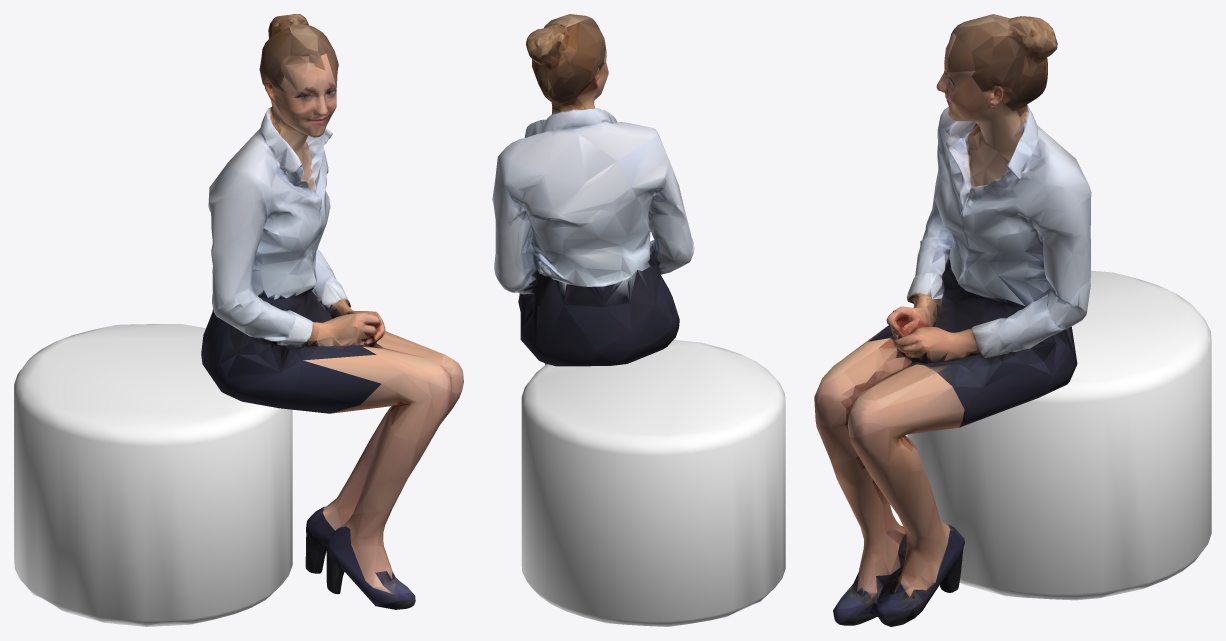
File: ren3.gltf
The picture shows the model from 3 angles, left to right: view 1: azimuth 30°, elevation 25°; view 2: azimuth 150°, elevation 25°; view 3: azimuth 270°, elevation 25°; orthographic projection. The views are drawn at different scales.
Parts seen in each view (by area): view 1: Obj3d66-515503-26-807, Obj3d66-515503-25-375; view 2: Obj3d66-515503-26-807, Obj3d66-515503-25-375; view 3: Obj3d66-515503-25-375, Obj3d66-515503-26-807.
Boxes of the visible parts, x1,y1,x2,y2 form: Obj3d66-515503-26-807: (14,324,292,626); Obj3d66-515503-25-375: (201,14,463,609); Obj3d66-515503-26-807: (521,340,785,626); Obj3d66-515503-25-375: (492,14,694,366); Obj3d66-515503-25-375: (814,14,1091,626); Obj3d66-515503-26-807: (907,270,1211,600).
Bounding box in the file's own units: 8.69 × 13.12 × 8.
2 materials, 1 textured.
